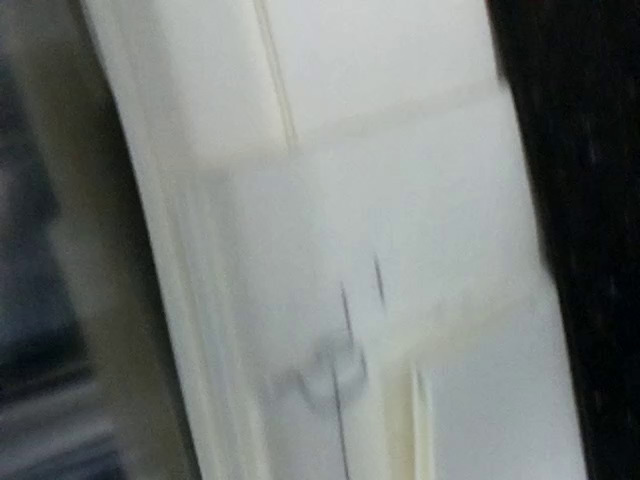not_sure: (249, 278, 377, 438)
